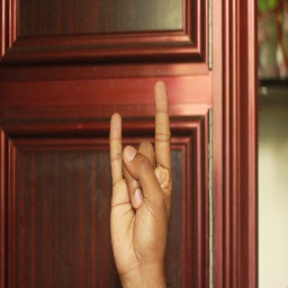V: (107, 79, 181, 267)
